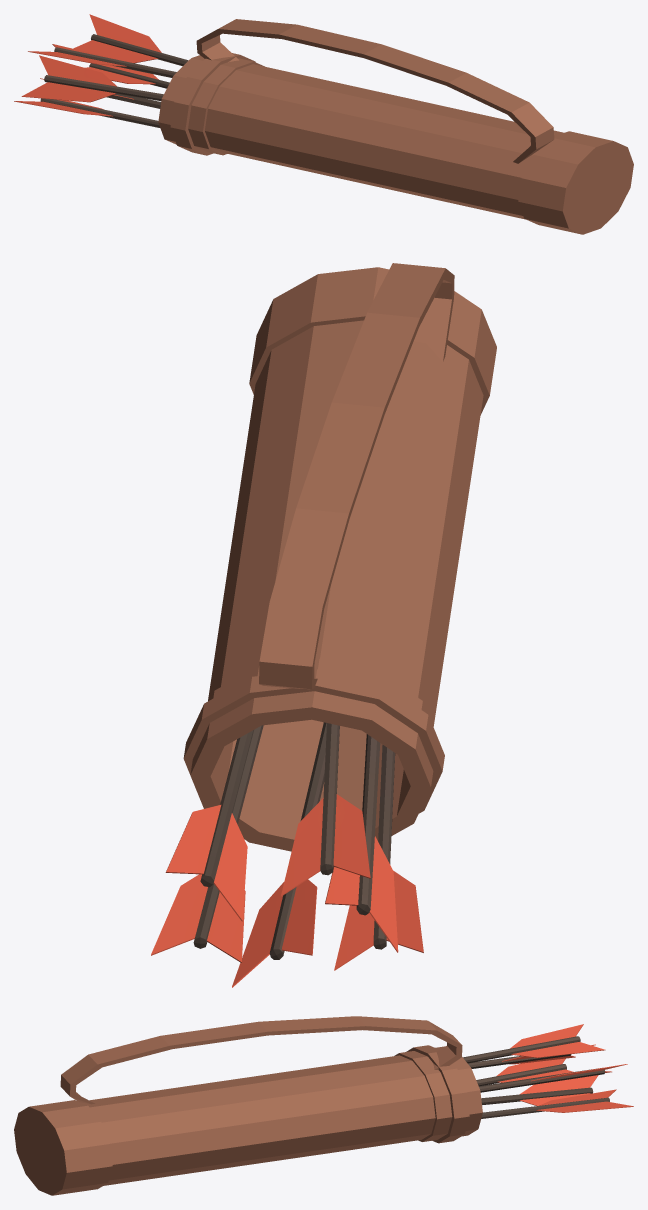
The model's file is Quiver-DCRFL3PQ.glb.
3 renders of one model, top to bottom at view 1: azimuth 30°, elevation 25°; view 2: azimuth 150°, elevation 25°; view 3: azimuth 270°, elevation 25°, orthographic. The views are drawn at different scales.
Visible parts, largest first — view 1: Quiver.001; view 2: Quiver.001; view 3: Quiver.001.
Part boxes in pixels (x1,y1,x2,y2): Quiver.001: (14,14,633,234); Quiver.001: (151,263,496,987); Quiver.001: (14,1016,633,1195).
Size of the model in its own units: 0.3558 by 0.1434 by 0.5695.
Materials: 1 (1 with a texture image).
